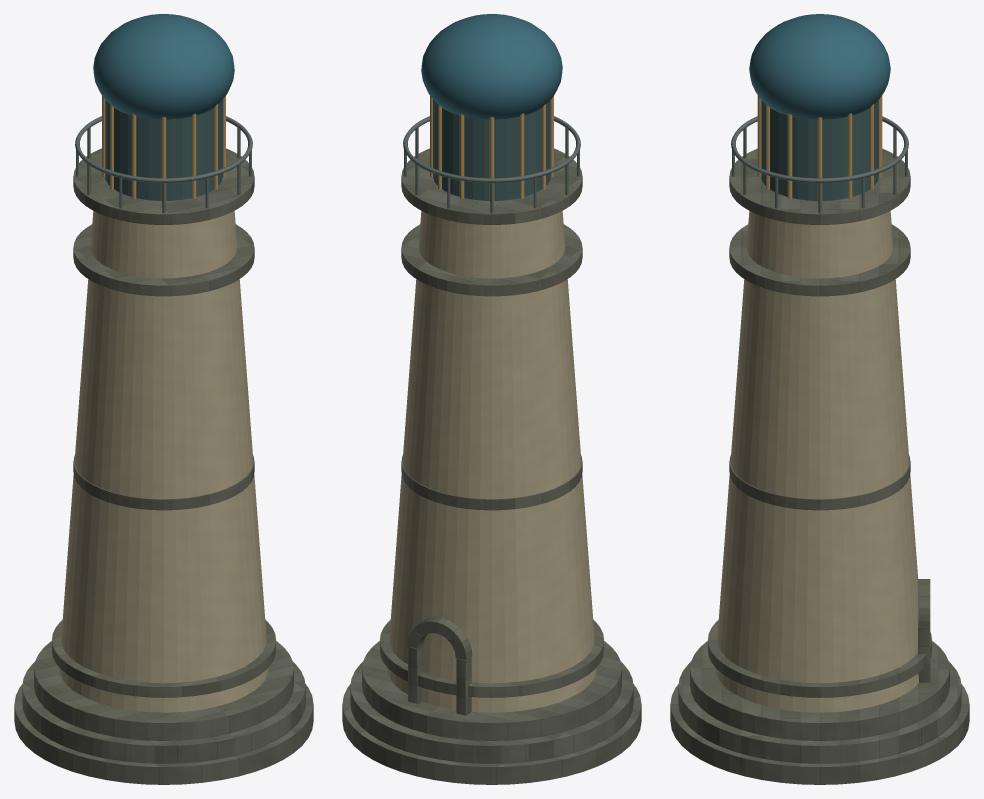
Rendered from port_lighthouse.glb.
The picture shows the model from 3 angles, left to right: view 1: azimuth 30°, elevation 25°; view 2: azimuth 150°, elevation 25°; view 3: azimuth 270°, elevation 25°; orthographic projection.
Parts seen in each view (by area): view 1: Cone, stepped_foundation, copper_roof, lantern_glass, lantern_frame, gallery_railing; view 2: Cone, stepped_foundation, copper_roof, lantern_glass, lantern_frame, gallery_railing; view 3: Cone, stepped_foundation, copper_roof, lantern_glass, lantern_frame, gallery_railing.
Boxes of the visible parts, x1,y1,x2,y2 form: Cone: (59, 211, 268, 712); stepped_foundation: (14, 148, 313, 784); copper_roof: (93, 14, 234, 119); lantern_glass: (105, 99, 222, 200); lantern_frame: (102, 96, 225, 201); gallery_railing: (75, 116, 252, 213); Cone: (387, 211, 596, 712); stepped_foundation: (342, 148, 641, 784); copper_roof: (421, 14, 562, 119); lantern_glass: (433, 99, 550, 200); lantern_frame: (430, 96, 553, 201); gallery_railing: (403, 116, 580, 213); Cone: (715, 211, 918, 712); stepped_foundation: (670, 148, 969, 784); copper_roof: (749, 14, 890, 119); lantern_glass: (761, 100, 878, 200); lantern_frame: (757, 95, 882, 201); gallery_railing: (731, 116, 908, 213).
Bounding box in the file's own units: 7.6 × 19.6 × 7.6.
6 materials, 2 textured.
